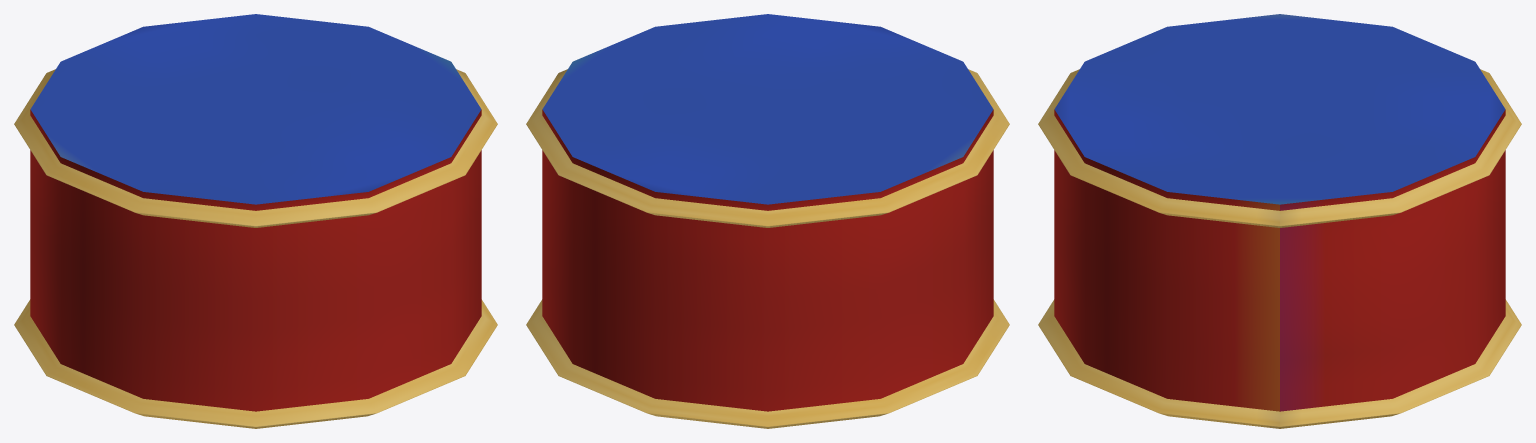
The model's file is circus_podium.obj.
3 renders of one model, left to right at view 1: azimuth 30°, elevation 25°; view 2: azimuth 150°, elevation 25°; view 3: azimuth 270°, elevation 25°, orthographic.
Parts seen in each view (by area): view 1: circus_podium; view 2: circus_podium; view 3: circus_podium.
Boxes of the visible parts, left/top/right/bottom form: circus_podium: left=14, top=14, right=497, bottom=428; circus_podium: left=526, top=14, right=1009, bottom=428; circus_podium: left=1038, top=14, right=1521, bottom=428.
Bounding box in the file's own units: 1.18 × 0.606 × 1.18.
1 material, 1 textured.
